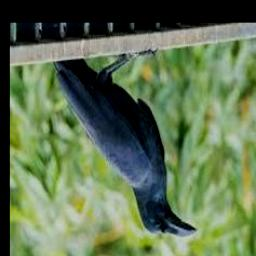Crow: (41, 24, 198, 238)
